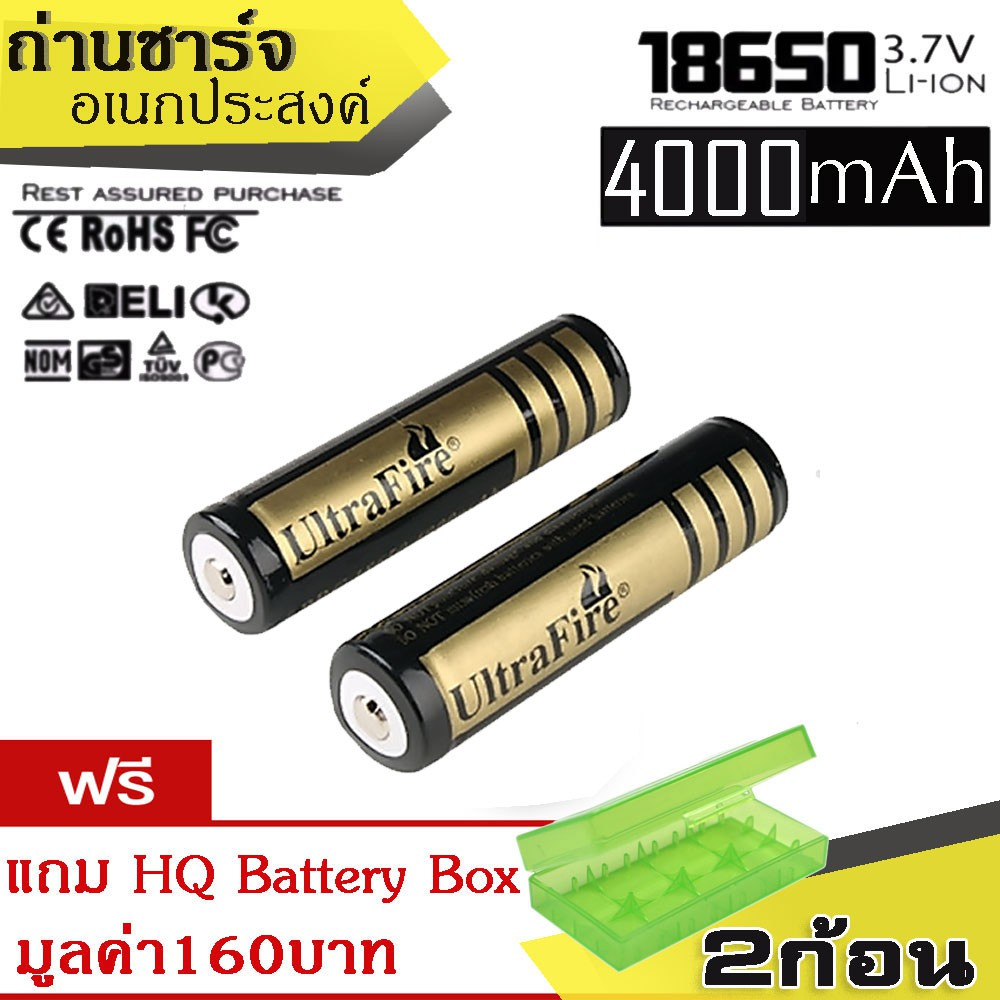Battery: (324, 409, 795, 774), (177, 307, 637, 638)
